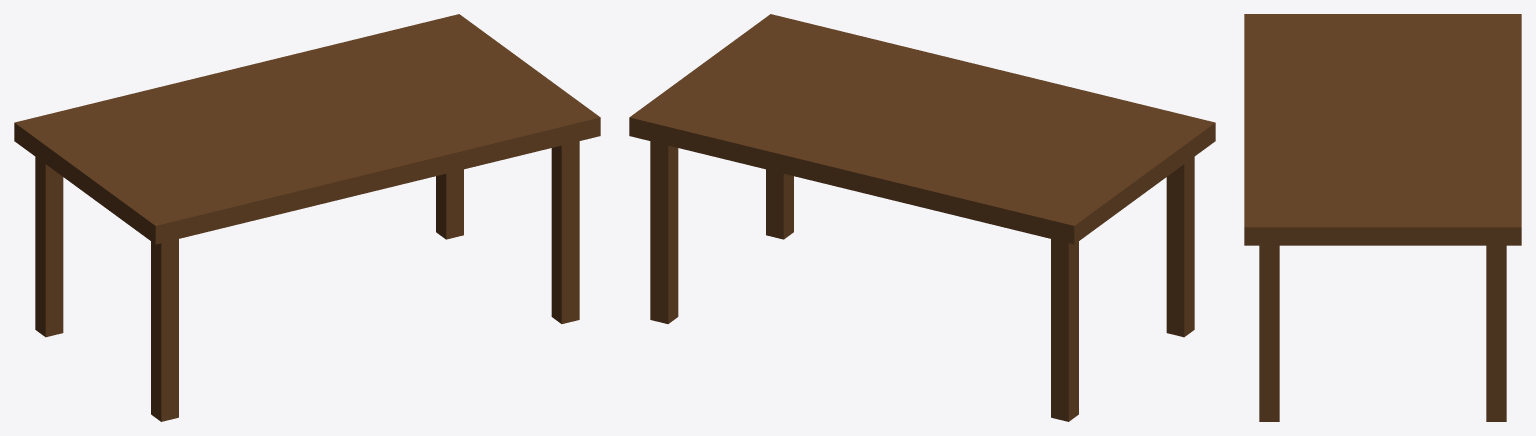
The model's file is coffee-table.glb.
The picture shows the model from 3 angles, left to right: view 1: azimuth 30°, elevation 25°; view 2: azimuth 150°, elevation 25°; view 3: azimuth 270°, elevation 25°; orthographic projection.
Visible parts, largest first — view 1: coffee-table; view 2: coffee-table; view 3: coffee-table.
Part boxes in pixels (x1,y1,x2,y2): coffee-table: (14,14,600,421); coffee-table: (629,14,1215,421); coffee-table: (1244,14,1521,421).
Size of the model in its own units: 1 by 0.44 by 0.55.
